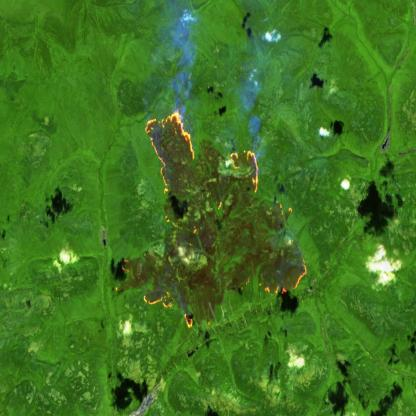fire: (114, 108, 310, 330)
